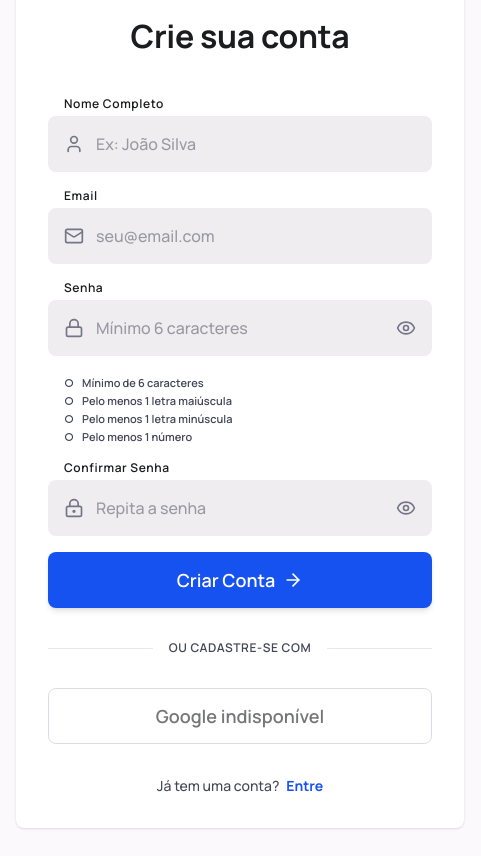
it: release auth password toggle › mostra erro inline quando as senhas não coincidem
In the field labelled "Nome Completo": (240, 144) [48,116,432,172], type "Ana Silva"
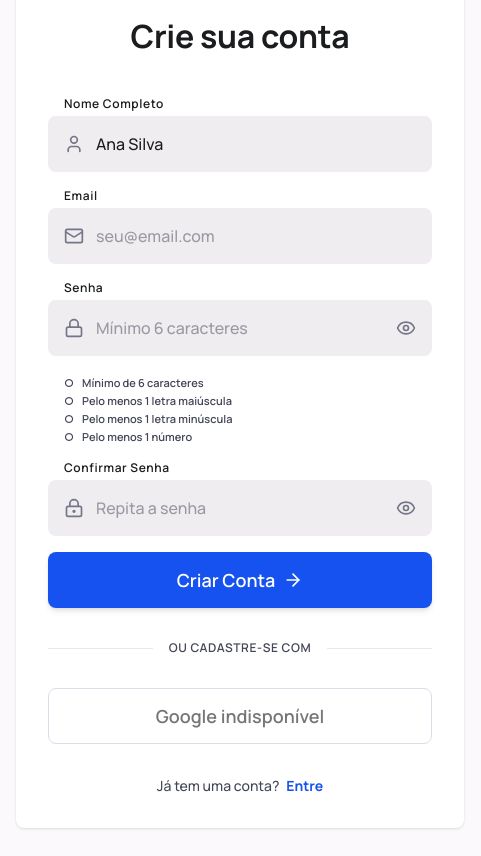
In the field labelled "Email": (240, 236) [48,208,432,264], type "ana@bagcoin.com"
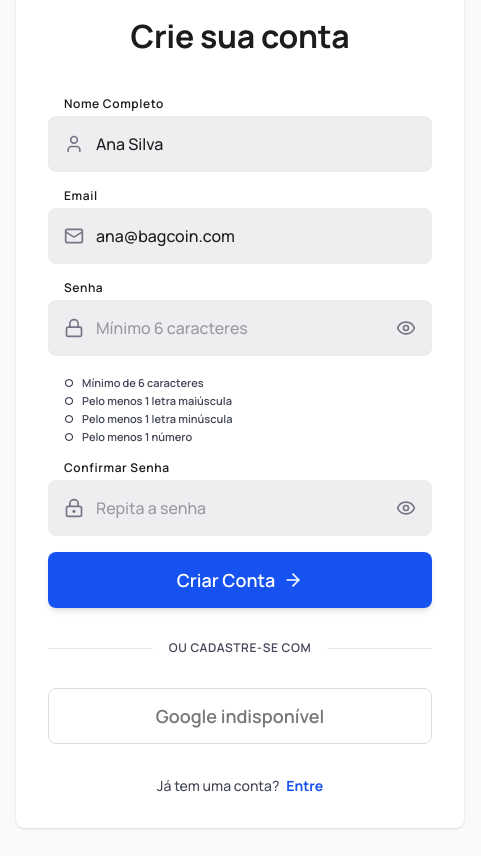
In the password field labelled "Senha": (240, 328) [48,300,432,356], type "Abcdef1"
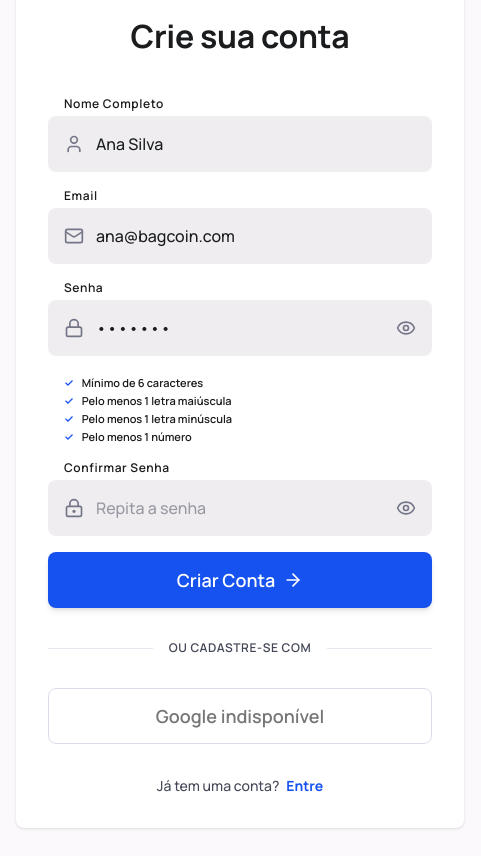
In the password field labelled "Confirmar Senha": (240, 508) [48,480,432,536], type "Abcdef2"
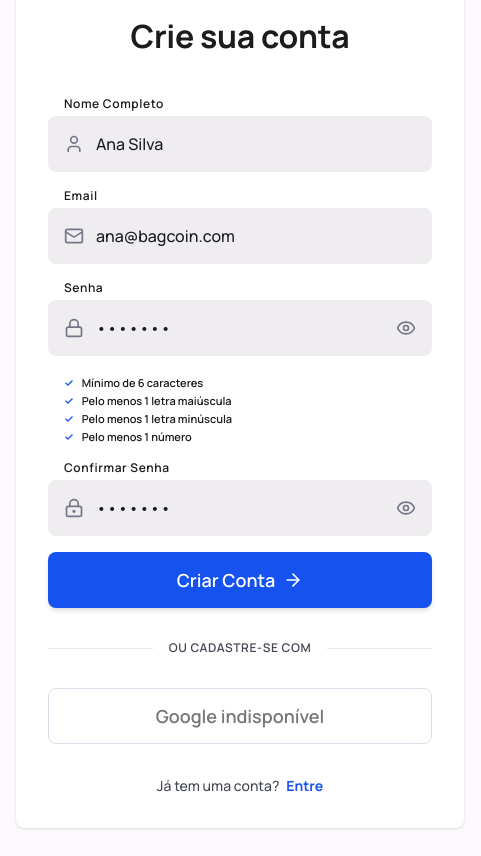
Click the button "Criar Conta": (240, 580) [48,552,432,608]
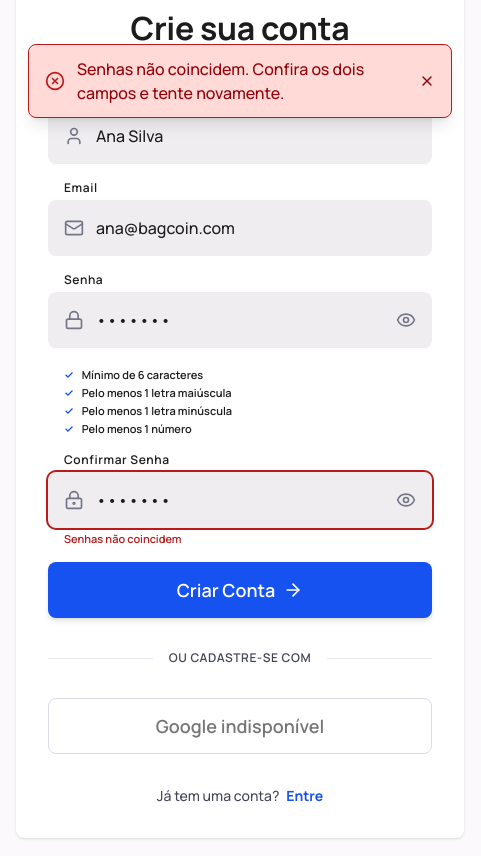
Check: the text "Senhas não coincidem" is shown, box [64,531,182,546]
Check: the text "Senhas não coincidem. Confira os dois campos e tente novamente." is shown, box [77,57,399,105]
